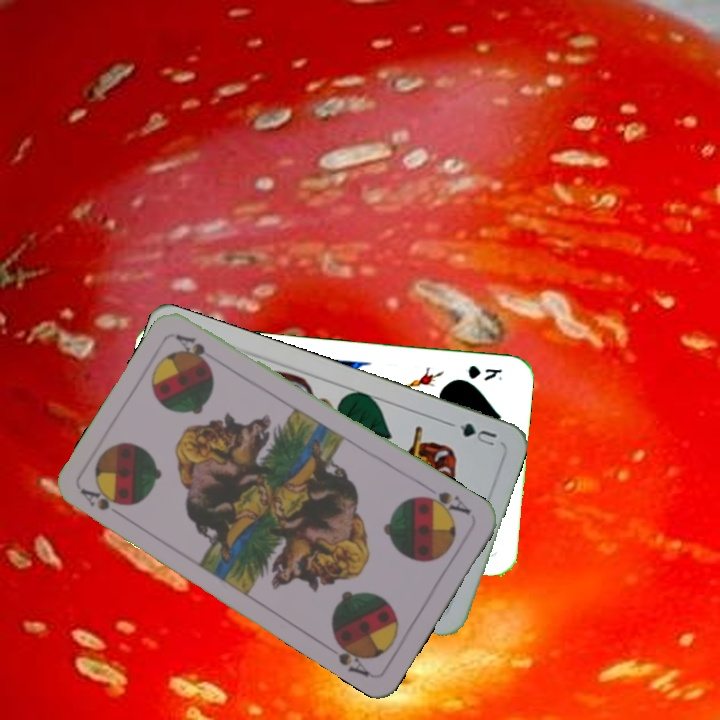GK: (464, 361, 505, 384)
GU: (455, 419, 499, 449)
SA: (76, 484, 130, 522), (417, 487, 474, 519)
